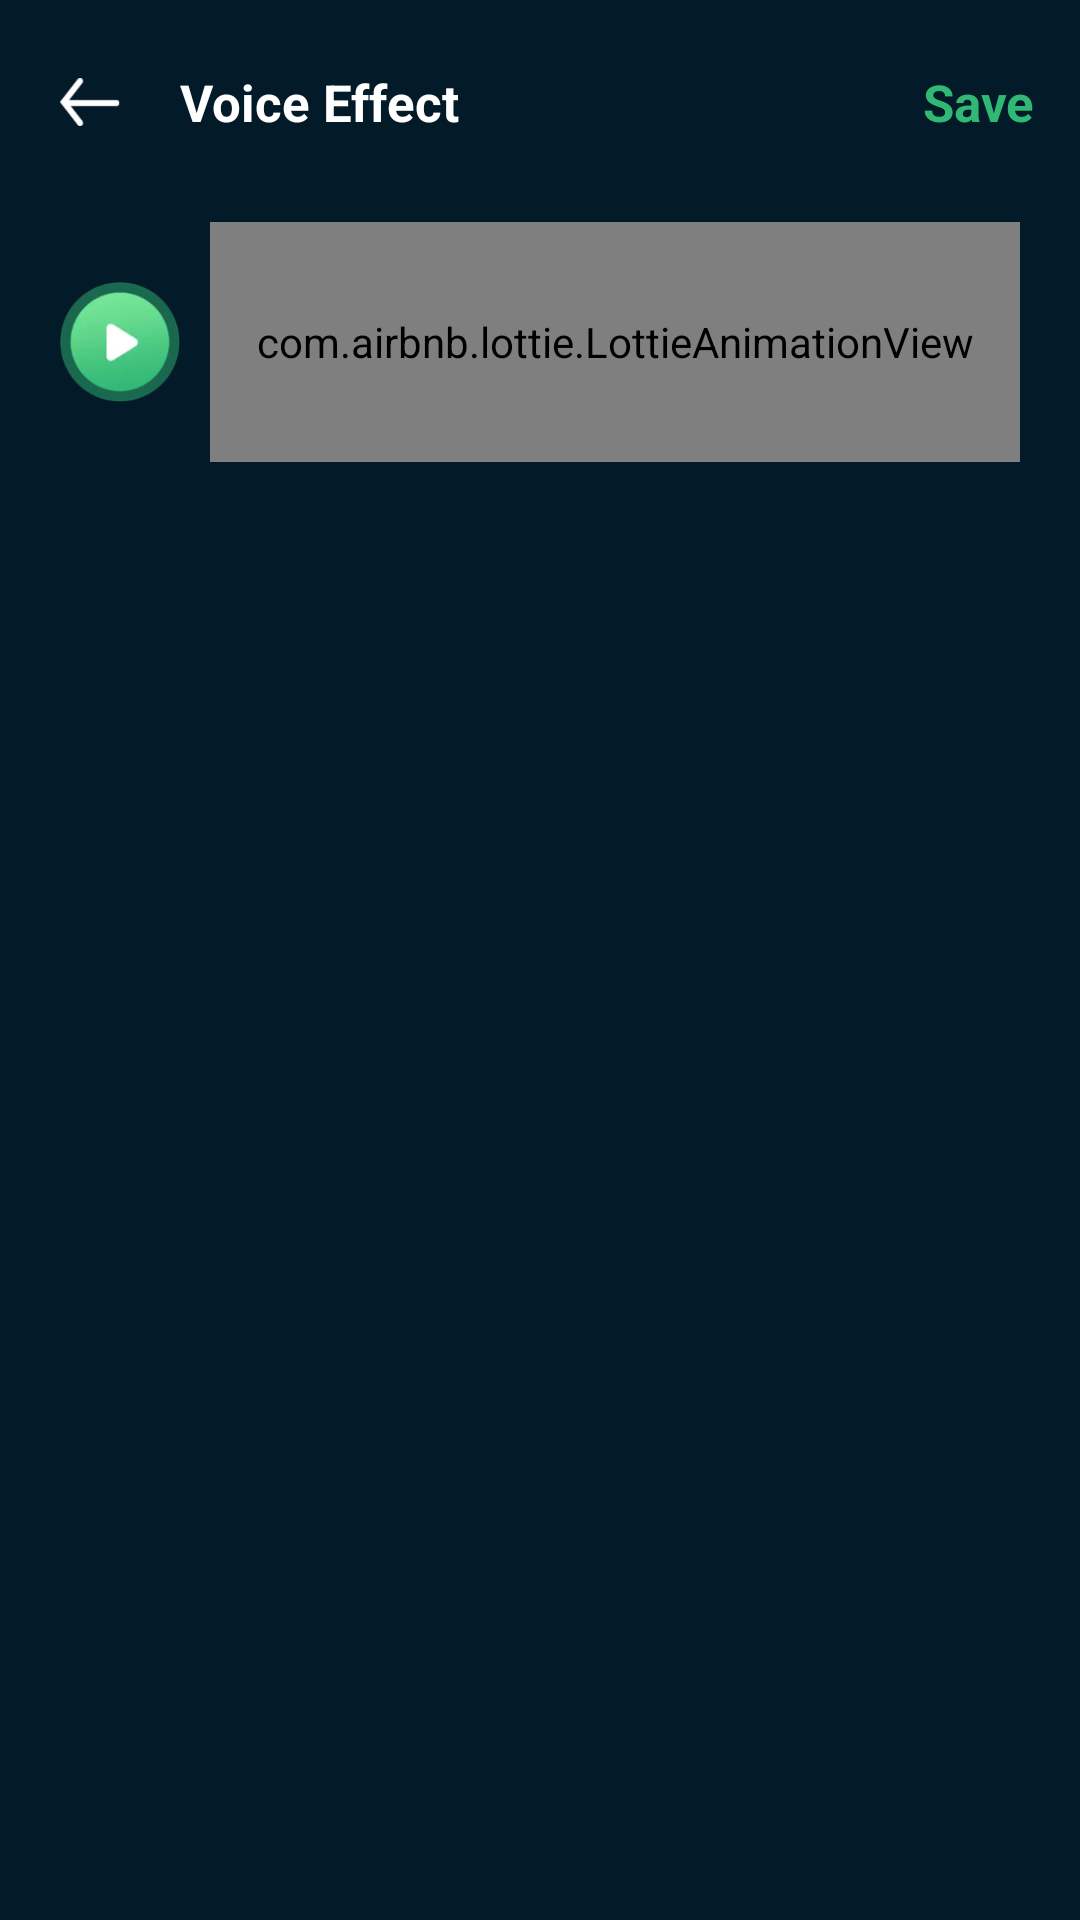

Named icons in this screenshot (1080w x 1920h) and their centers, [x,y]:
back: [90,102]
play: [120,342]
